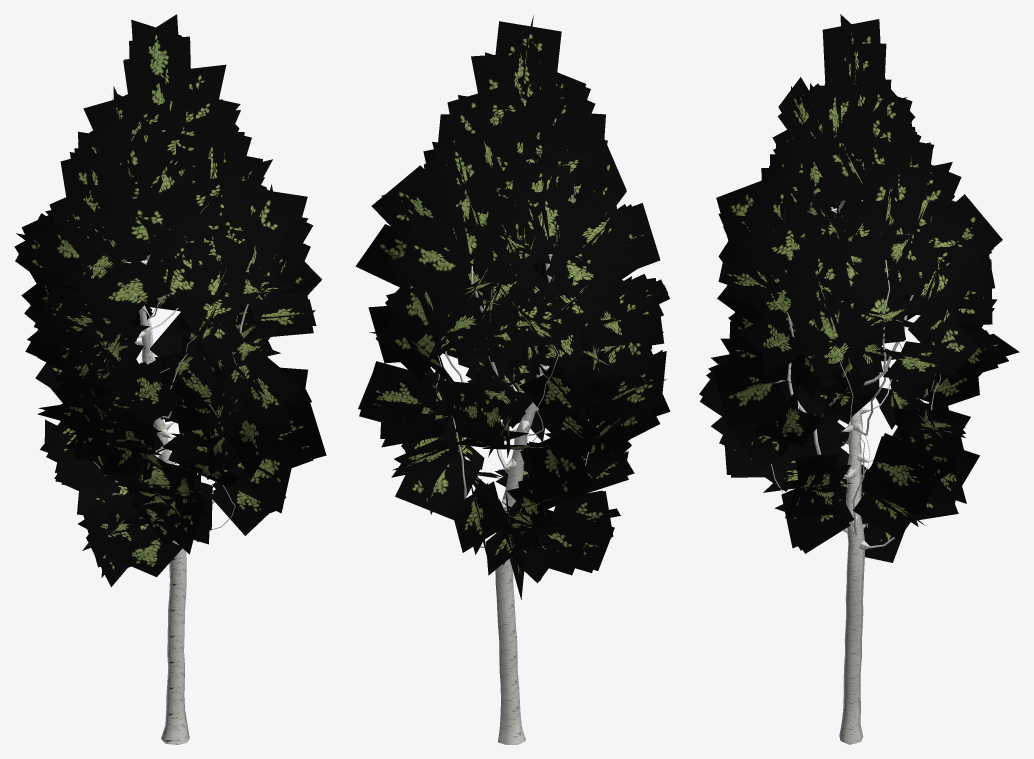
File: Scenery_Birch_V3.fbx
The picture shows the model from 3 angles, left to right: view 1: azimuth 30°, elevation 25°; view 2: azimuth 150°, elevation 25°; view 3: azimuth 270°, elevation 25°; orthographic projection.
Visible parts, largest first — view 1: Scenery_Birch_V3_LOD0; view 2: Scenery_Birch_V3_LOD0; view 3: Scenery_Birch_V3_LOD0.
Part boxes in pixels (x1=…): Scenery_Birch_V3_LOD0: x1=14, y1=14, x2=326, y2=744; Scenery_Birch_V3_LOD0: x1=355, y1=15, x2=670, y2=744; Scenery_Birch_V3_LOD0: x1=699, y1=14, x2=1019, y2=744.
Size of what is drawn, in the model's own units: 6.96 by 17.71 by 7.27.
